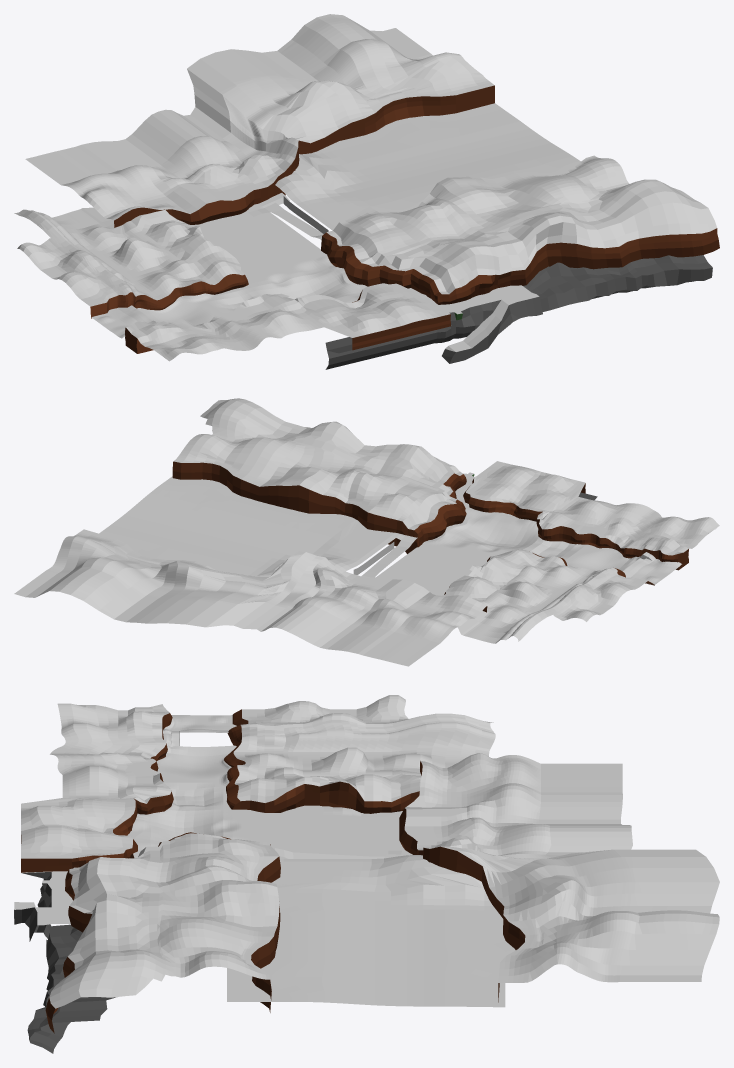
File: Floresta_Terreno.fbx
3 renders of one model, top to bottom at view 1: azimuth 30°, elevation 25°; view 2: azimuth 150°, elevation 25°; view 3: azimuth 270°, elevation 25°, orthographic. The views are drawn at different scales.
Visible parts, largest first — view 1: Terreno_Limite, Montanhas, Terreno_Parte5, Terreno_Parte6, Terreno_Parte3, Terreno_Parte2, Terreno_Parte4, Terreno_Parte1; view 2: Terreno_Limite, Terreno_Parte5, Montanhas, Terreno_Parte2, Terreno_Parte4, Terreno_Parte3, Terreno_Parte1; view 3: Terreno_Limite, Terreno_Parte5, Montanhas, Terreno_Parte4, Terreno_Parte3, Terreno_Parte2, Terreno_Parte1, Terreno_Parte6.
Boxes of the visible parts, x1,y1,x2,y2 form: Terreno_Limite: (14,14,716,361); Montanhas: (90,85,719,353); Terreno_Parte5: (301,103,580,210); Terreno_Parte6: (325,285,542,369); Terreno_Parte3: (191,193,321,270); Terreno_Parte2: (209,251,367,312); Terreno_Parte4: (248,154,370,239); Terreno_Parte1: (91,293,230,338); Terreno_Limite: (14,398,719,666); Terreno_Parte5: (99,476,355,575); Montanhas: (172,461,688,612); Terreno_Parte2: (420,507,577,562); Terreno_Parte4: (312,519,417,577); Terreno_Parte3: (376,546,485,595); Terreno_Parte1: (560,544,681,585); Terreno_Limite: (21,695,719,1053); Terreno_Parte5: (227,884,515,1007); Montanhas: (21,709,525,1033); Terreno_Parte4: (272,848,483,891); Terreno_Parte3: (268,805,412,858); Terreno_Parte2: (127,786,269,850); Terreno_Parte1: (156,715,236,789); Terreno_Parte6: (14,871,72,941).
Size of the model in its own units: 58994 by 9287 by 56974.
